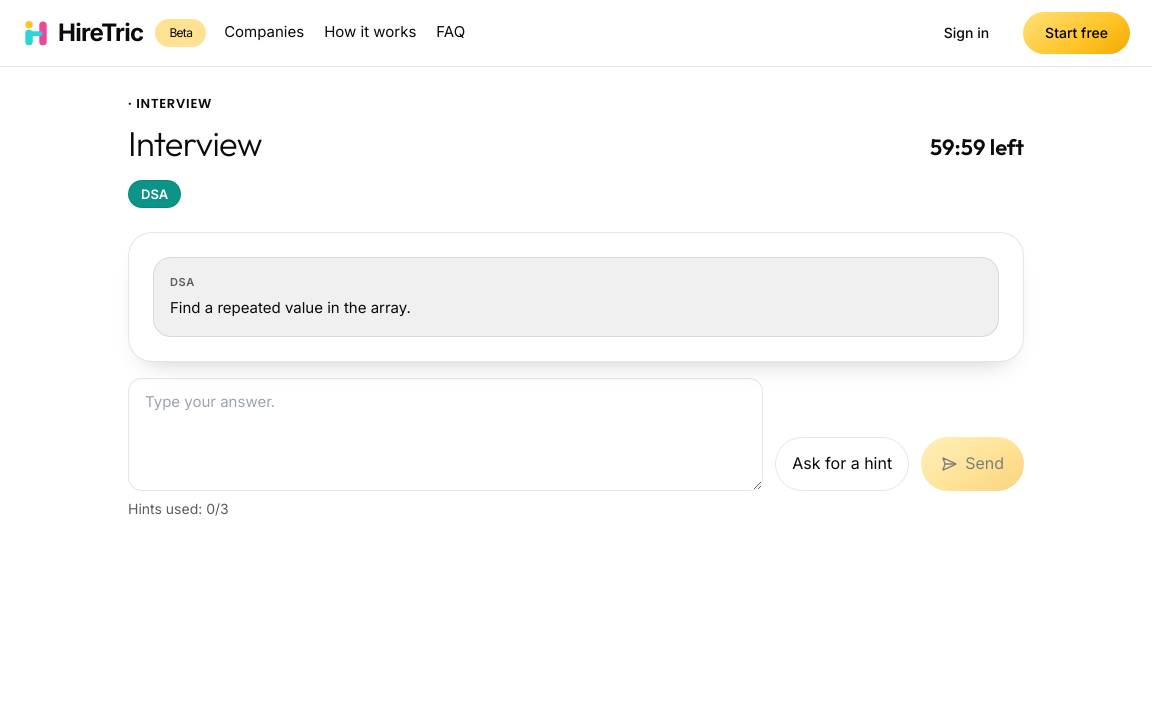
clicking the hint button posts the fixed hint phrase, never clears the draft, and NEVER overwrites the problem statement
This screenshot has width=1152, height=720.
(page scrolled)
In the text box with test id "spark-answer-input": coordinates (446, 435) x1=128 y1=378 x2=763 y2=491, type "my draft answer in progress"
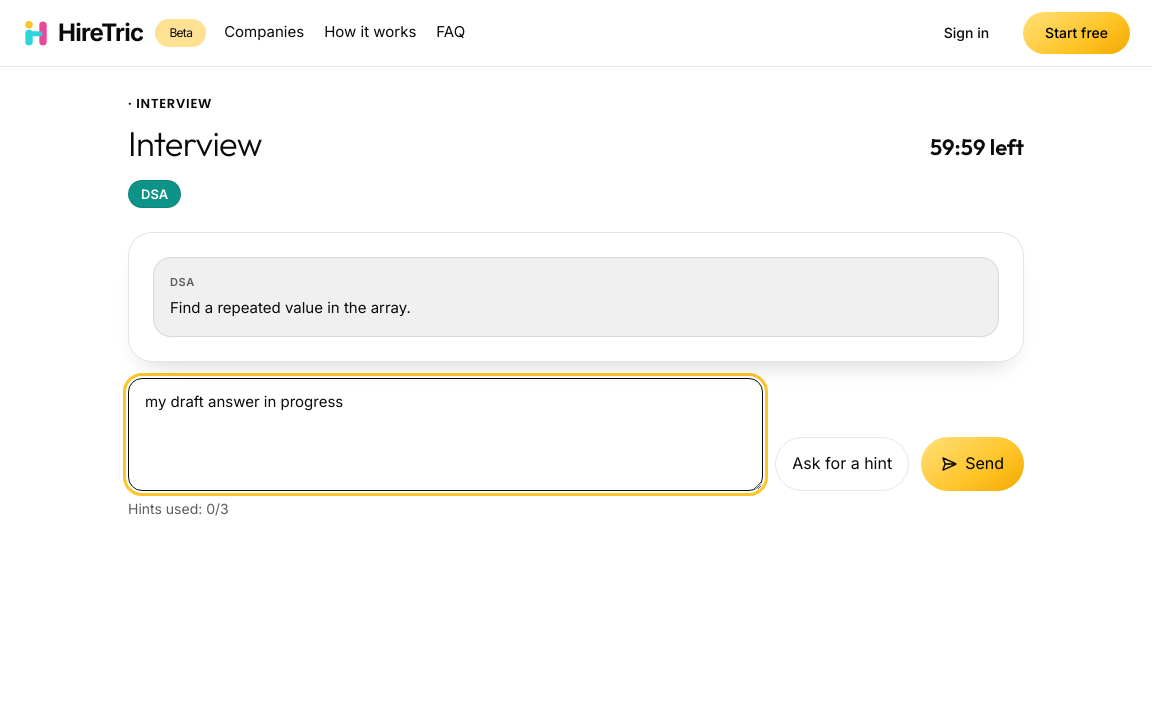
Click the button with test id "spark-ask-hint": coordinates (842, 464) x1=775 y1=437 x2=909 y2=491
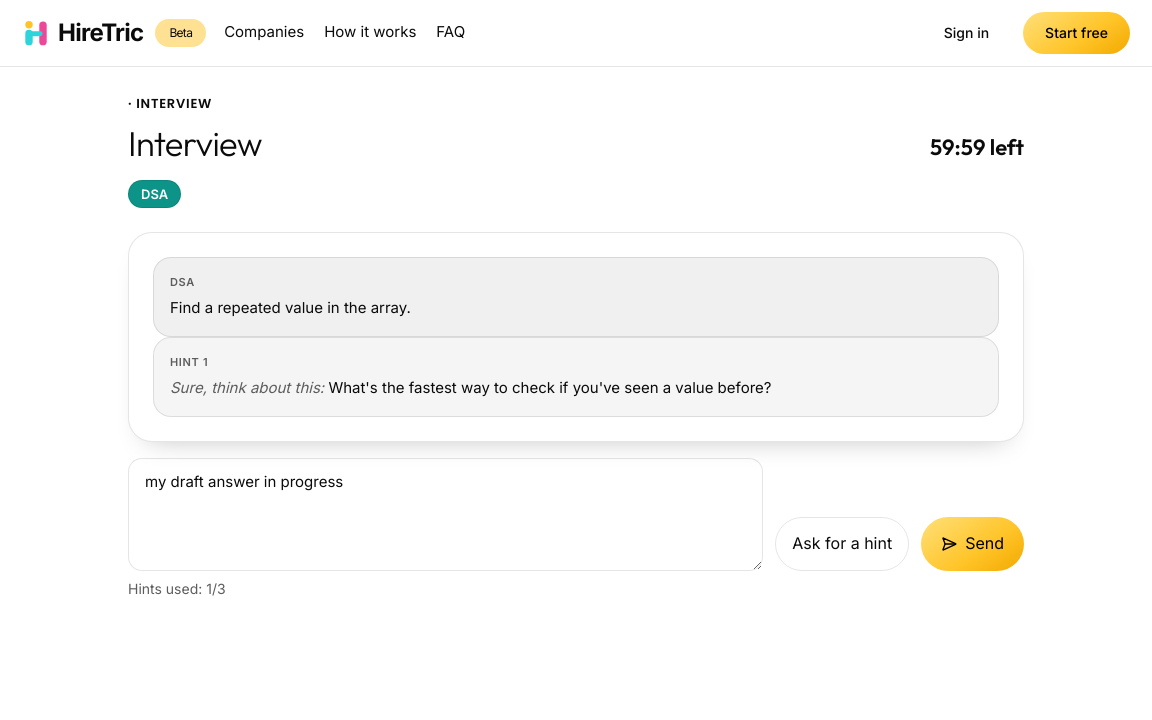
Now the text with test id "spark-hints-used" reads "Hints used: 1/3", box x1=128 y1=580 x2=226 y2=597
Now the number of elements with test id "spark-hint-shown" is 1, box x1=153 y1=337 x2=999 y2=417
Now the element with test id "spark-hint-shown" shows "Sure, think about this:", box x1=170 y1=378 x2=324 y2=397
